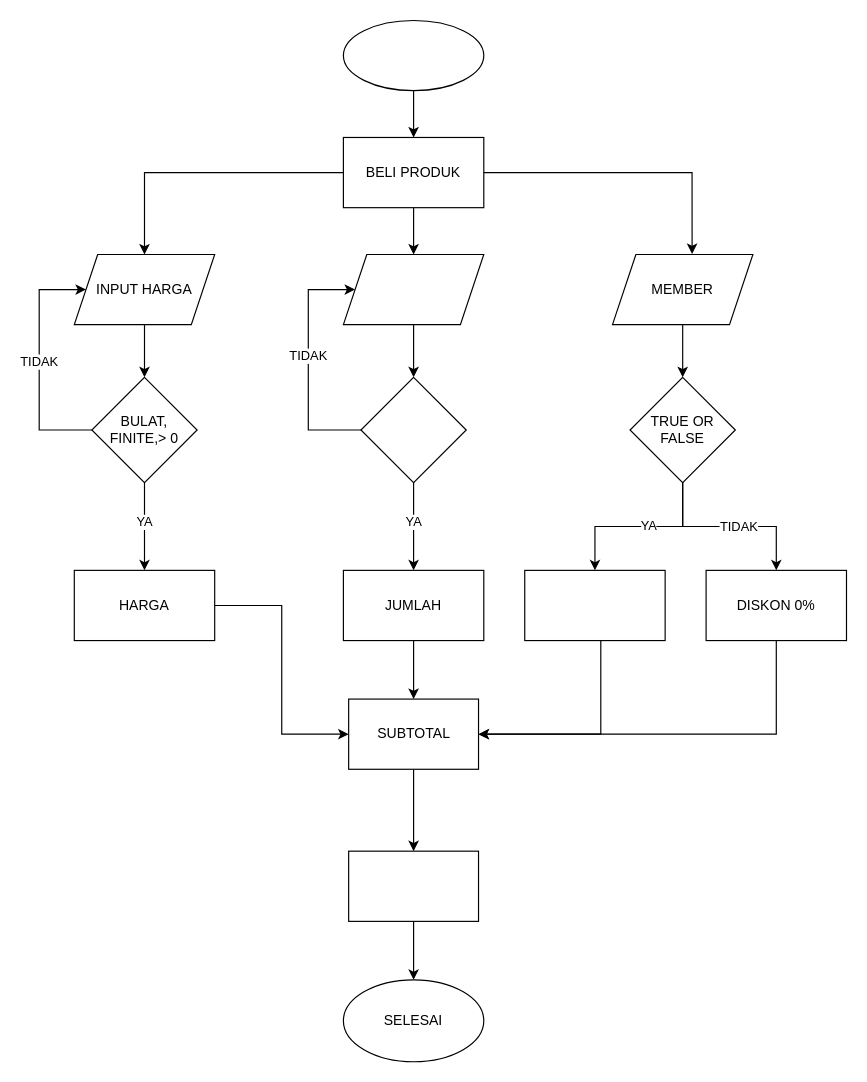
This 867x1082 diagram has some shape labels left out. The shapes that lost their labels are listed below. From the top down, each one's centre as x and y in pixels, then its label:
the point at 413,55: MULAI
the point at 413,289: INPUT JUMLAH
the point at 413,429: BULAT, > 0
the point at 594,605: DISKON 10%
the point at 413,885: TOTAL BELANJA
